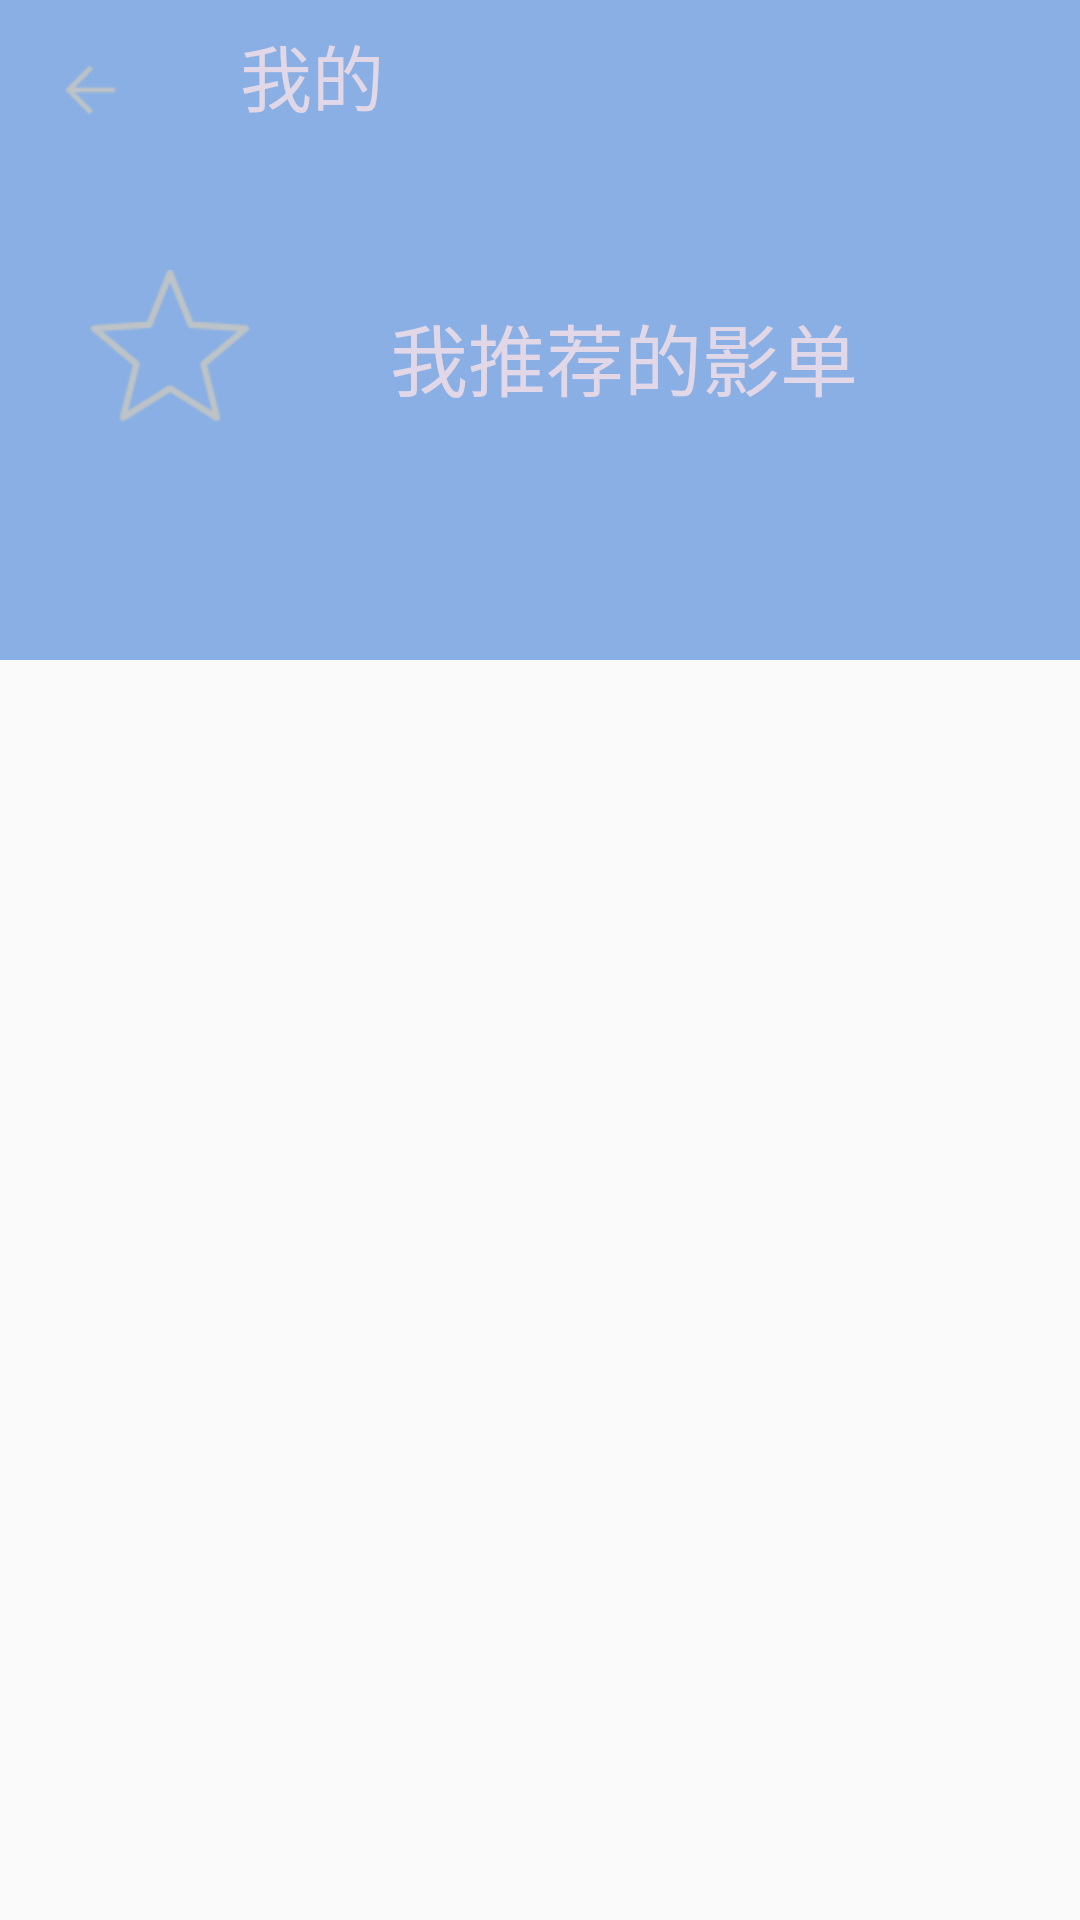

Icon click points for this 1080*1920 phone screenshot, format point (x, y):
collection: point (170, 345)
return: point (90, 90)
